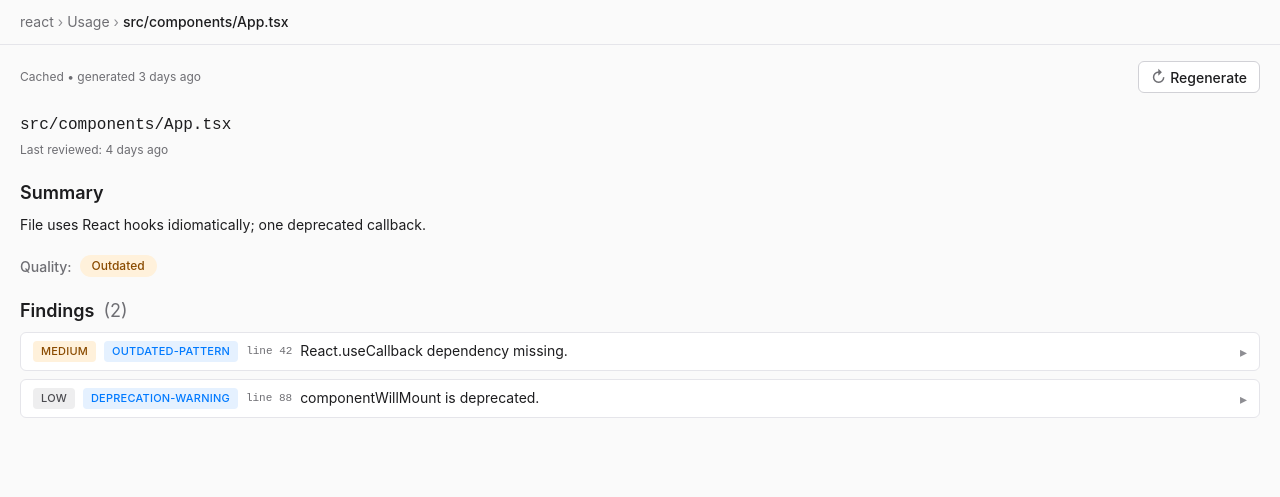
Test: FileReviewView (View [E]) › expanding a finding row reveals the suggestion + confidence
The width and height of the screenshot is (1280, 497).
// Click the row to expand.
Step 1. Click the button that starts with "medium" → click(65, 352), box top-left (21, 333), bottom-right (1259, 370)
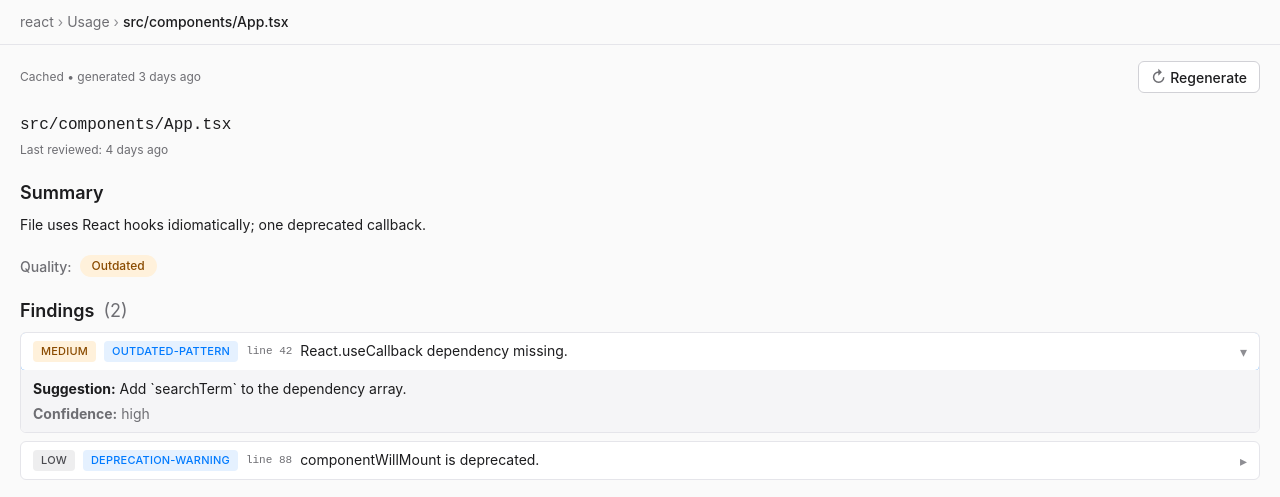
Expected: the element with test id "finding-0-details" shows "Add `searchTerm` to the dependency array.", top-left (120, 380), bottom-right (407, 397)
Expected: the element with test id "finding-0-details" shows "high", top-left (121, 405), bottom-right (150, 422)
